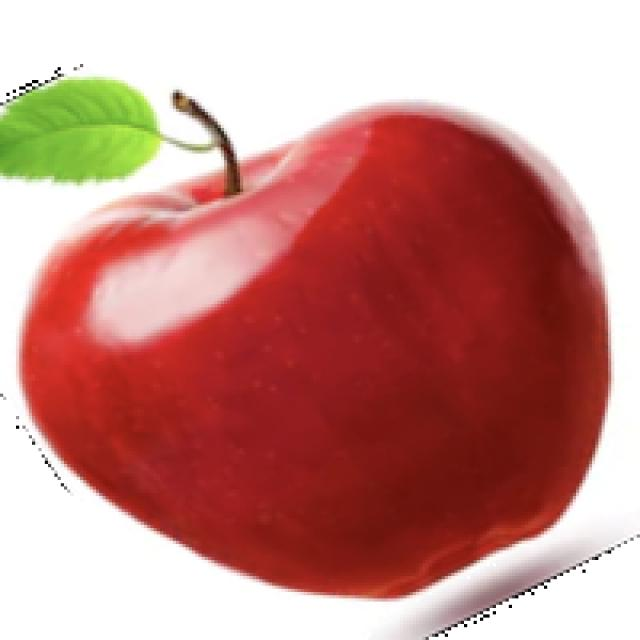apple: (10, 83, 614, 637)
